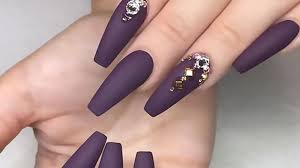nail: (87, 50, 154, 117), (144, 54, 209, 117), (92, 1, 151, 69), (232, 19, 299, 75), (61, 131, 107, 168), (100, 142, 124, 168), (132, 150, 155, 168)
